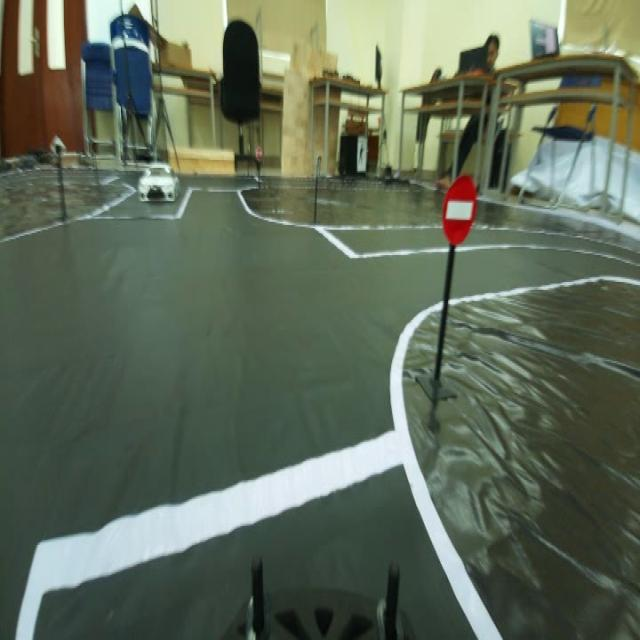no_entry: (433, 168, 484, 252)
